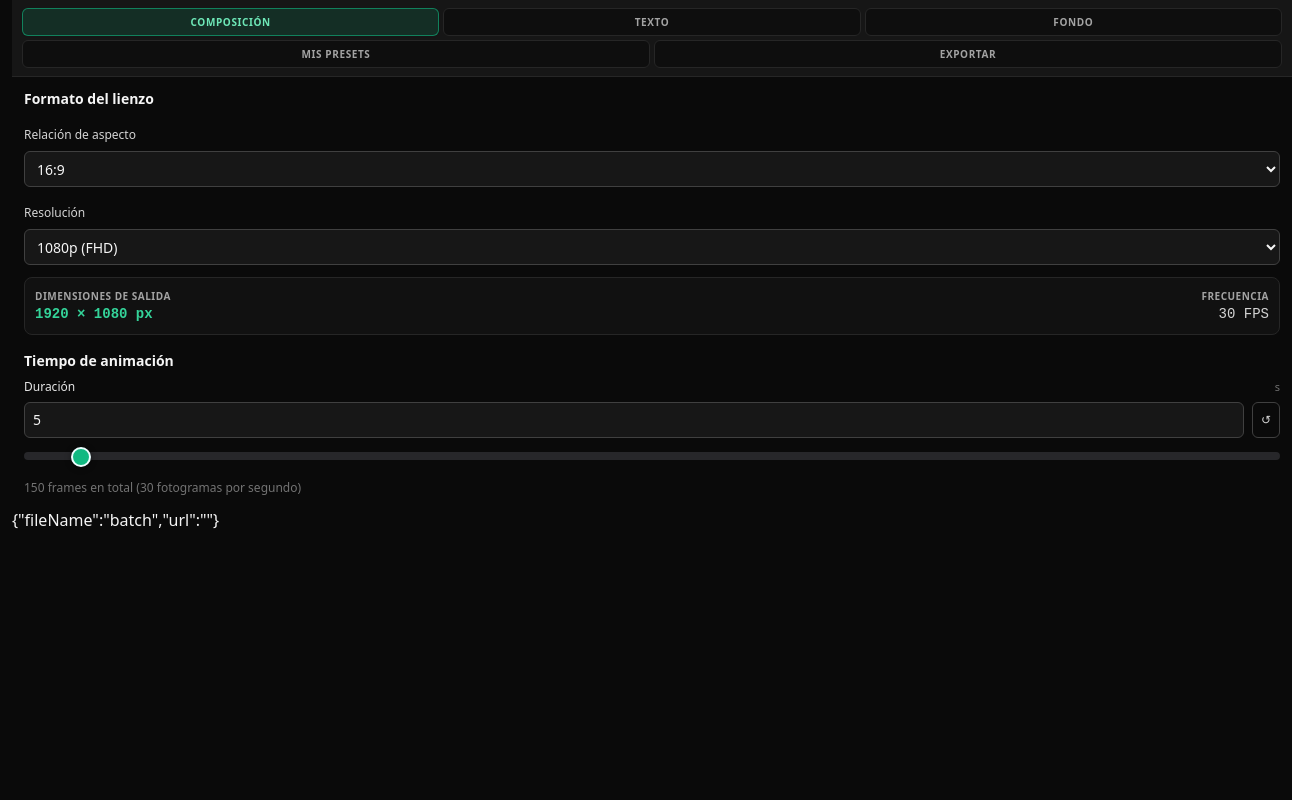
Scenario: InspectorPanel tabs › preserva download-requested y el nombre real al guardar desde la UI un resultado previo con fallback
Click the tab "Exportar" at {"x": 968, "y": 54}, box 654,40 -> 1282,68
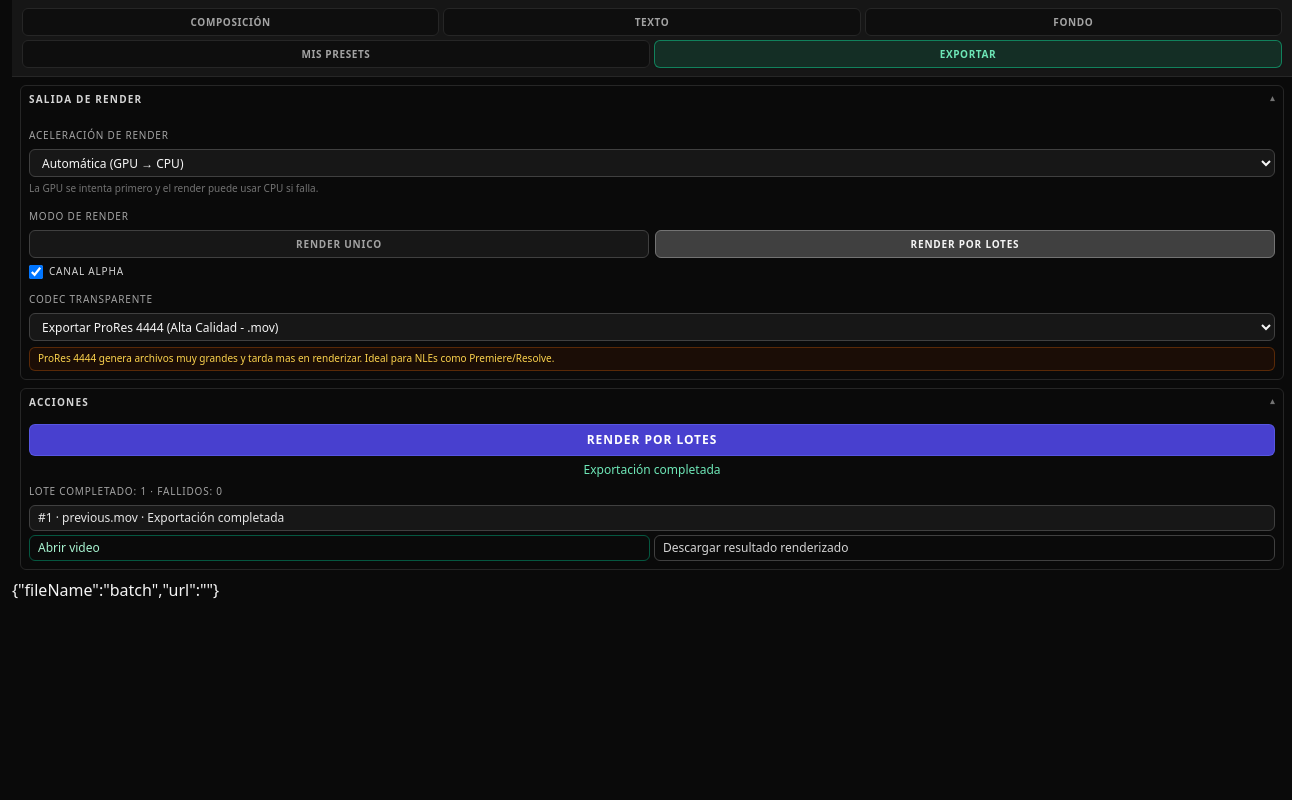
Click the button "Descargar resultado renderizado" at {"x": 756, "y": 547}, box 654,535 -> 1275,561
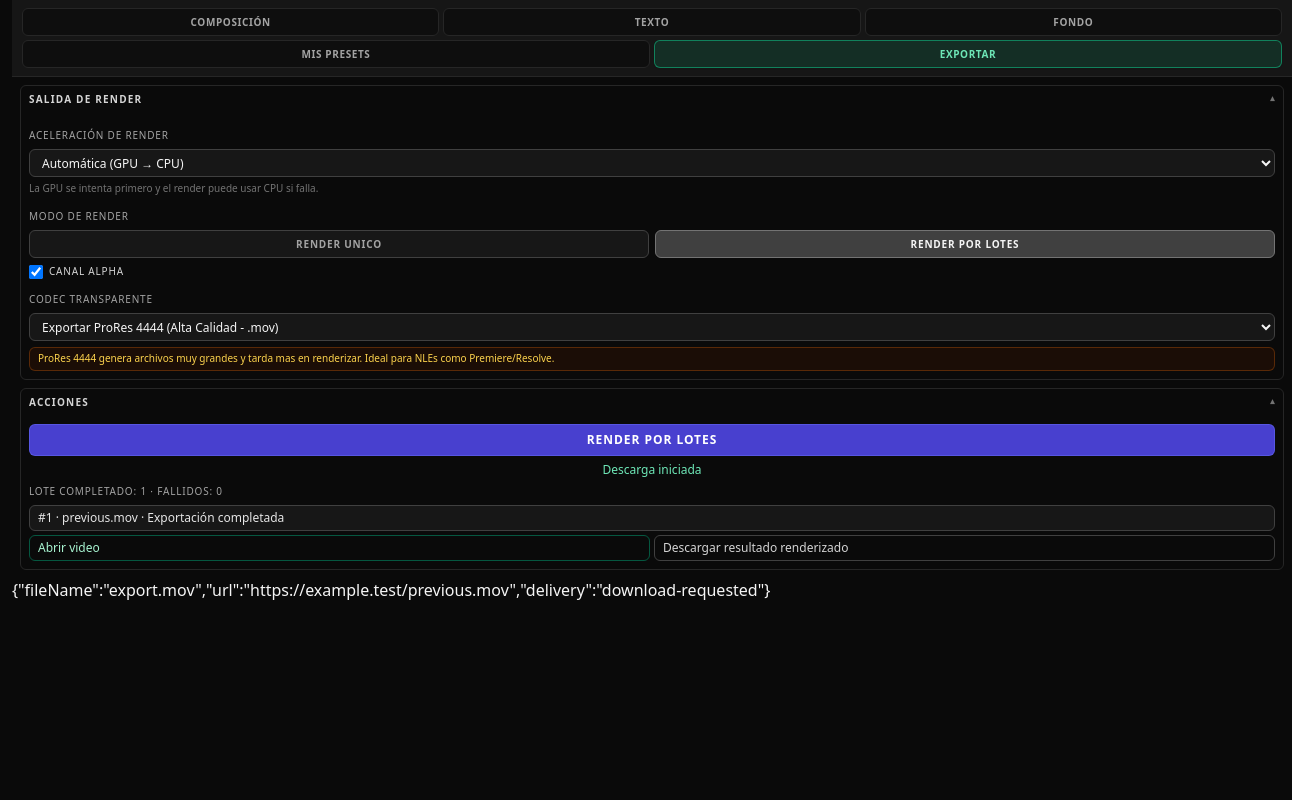
Now the text "Descarga iniciada" is shown, box 602,461 -> 702,478
Now the text with test id "saved-result" shows "\"delivery\":\"download-requested\"", box 12,579 -> 770,601
Now the text with test id "saved-result" shows "\"fileName\":\"export.mov\"", box 12,579 -> 770,601
